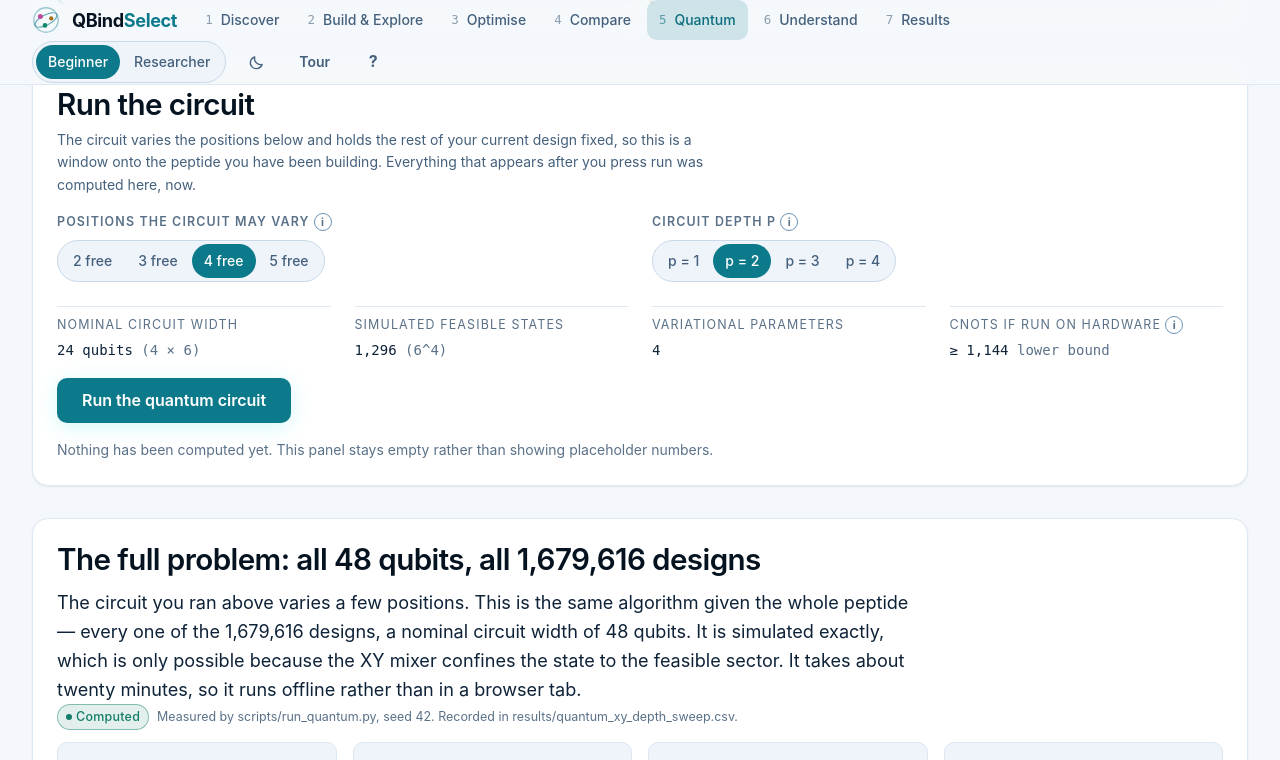
Test case: Quantum screen: the live run › computes the same result the science module computes for the same inputs
(page scrolled)
What coordinates should you click on to do the following:
click the button "Run the quantum circuit"
I would click on:
 (174, 400)
Its box is [57, 378, 291, 423].
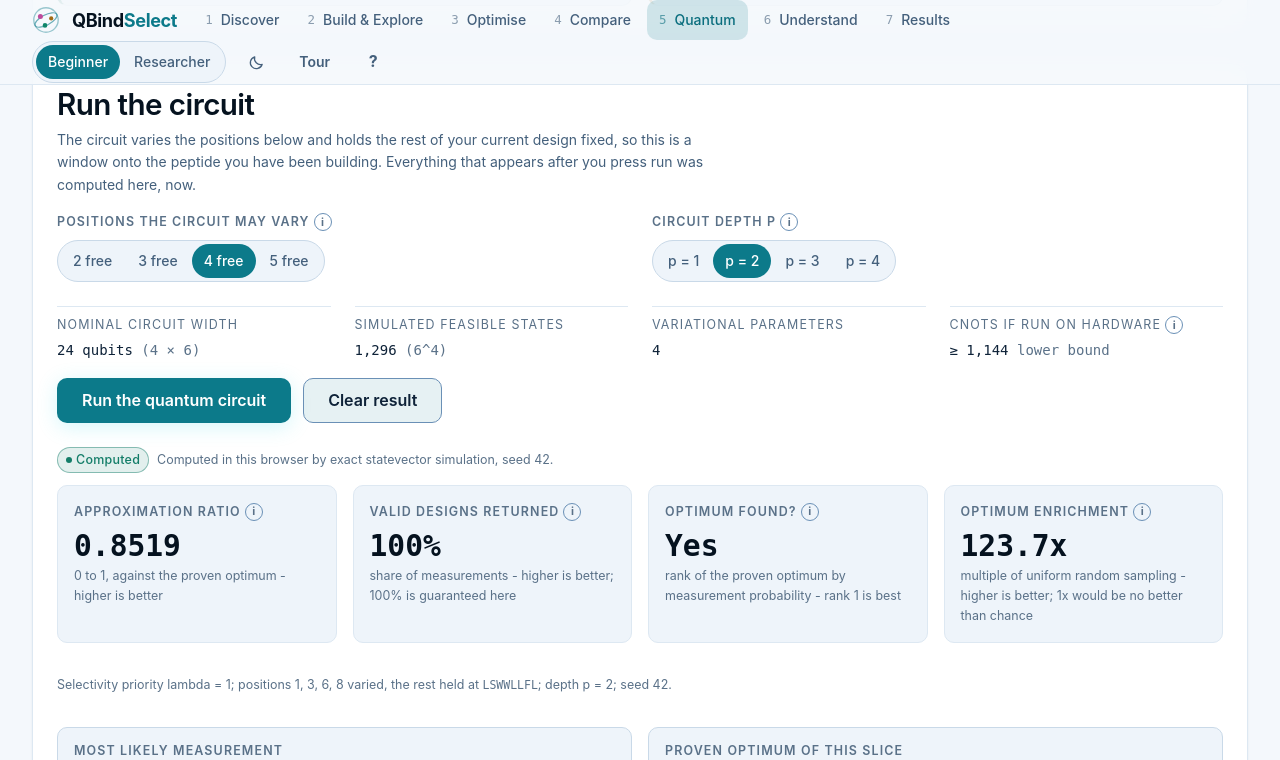
Now the button "Clear result" is shown, box [303, 378, 442, 423]
Now the text "LSWWLLFL" next to "; depth p =" is shown, box [482, 678, 538, 692]
